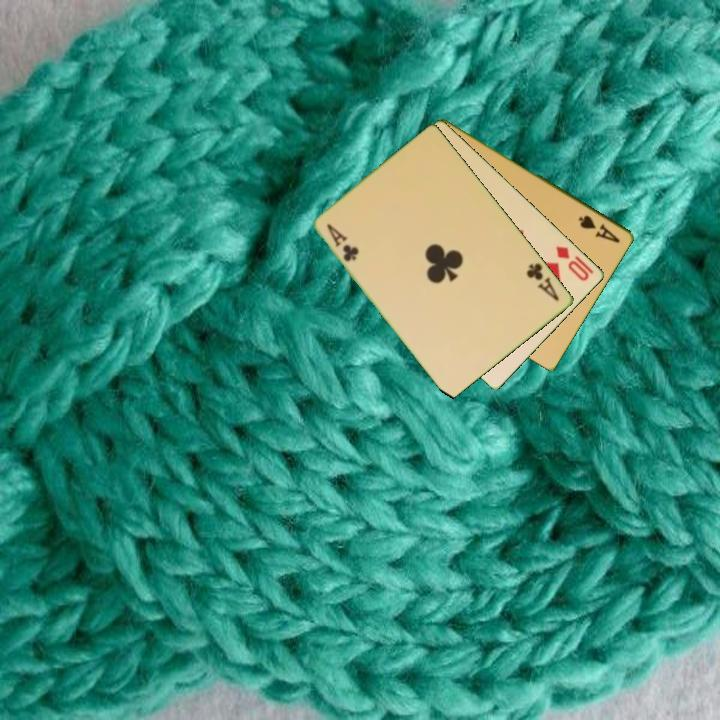10d: (552, 242, 597, 284)
Ac: (523, 259, 562, 304), (323, 220, 362, 265)
As: (576, 211, 624, 246)
